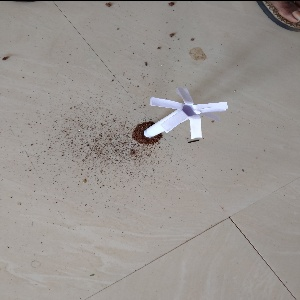weed: (141, 85, 230, 149)
